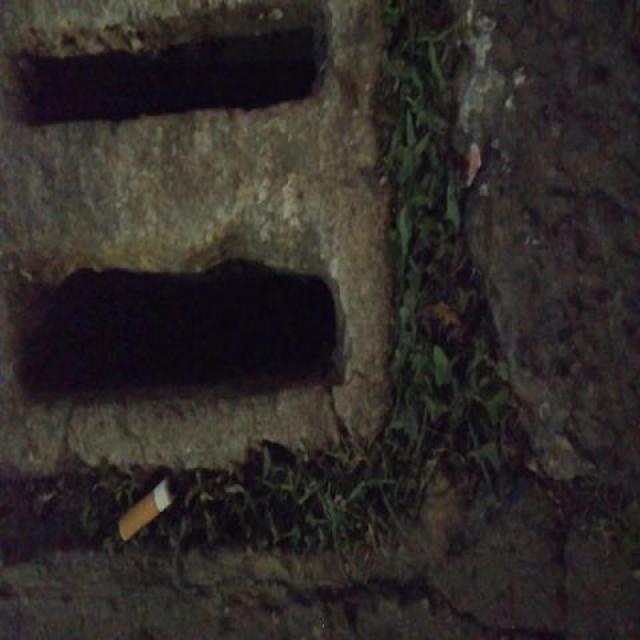non-organic waste: (111, 471, 181, 548)
